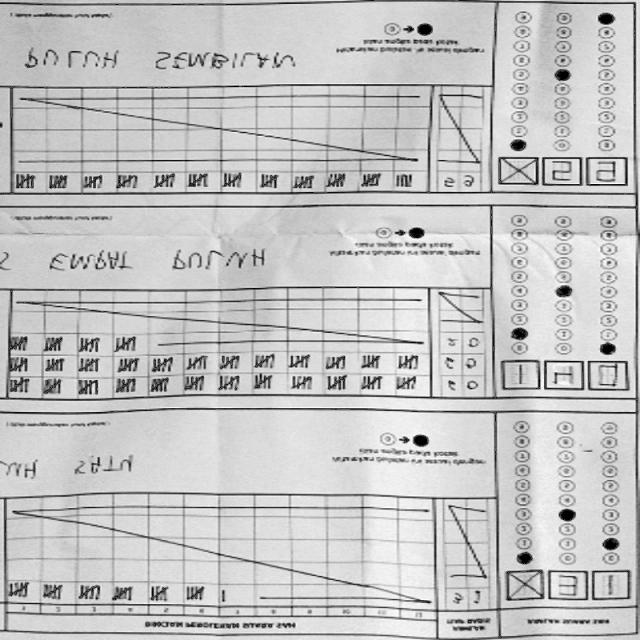Suara: (502, 566, 632, 609), (498, 361, 632, 398), (492, 156, 630, 189)
